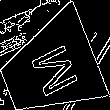M_SW: (21, 38, 78, 100)
